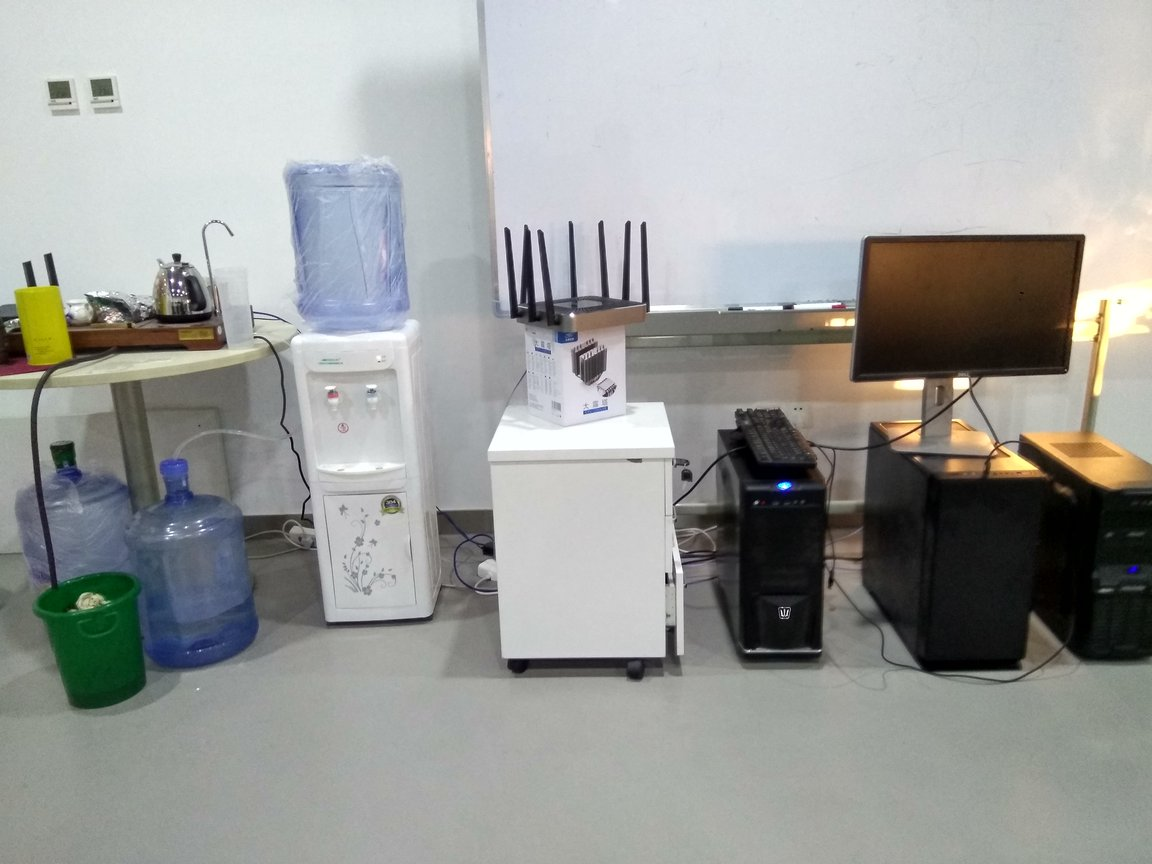computer: (865, 416, 1032, 678), (1014, 426, 1152, 670), (715, 420, 835, 678)
drawer chest: (486, 400, 689, 691)
monitor: (851, 227, 1079, 465)
scuttlebutt: (135, 463, 264, 670), (12, 434, 148, 630), (283, 156, 415, 338)
water dispenser: (287, 320, 448, 637)
